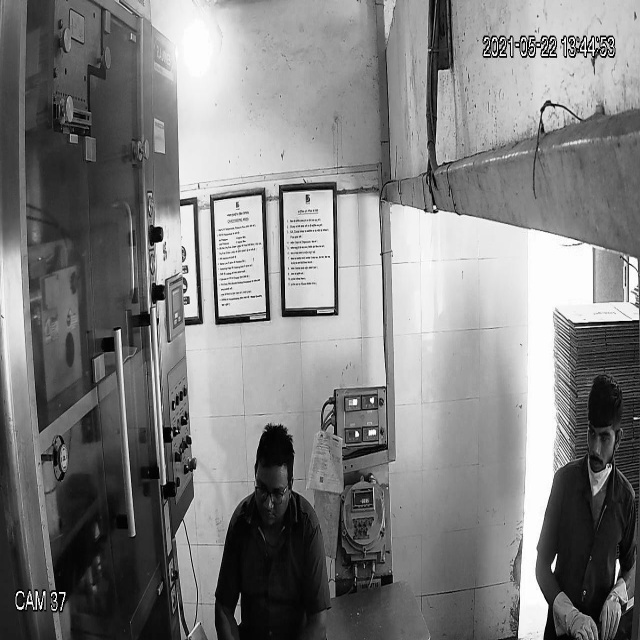Gafas: (252, 473, 289, 510)
Sin_gafas: (586, 425, 620, 448)
